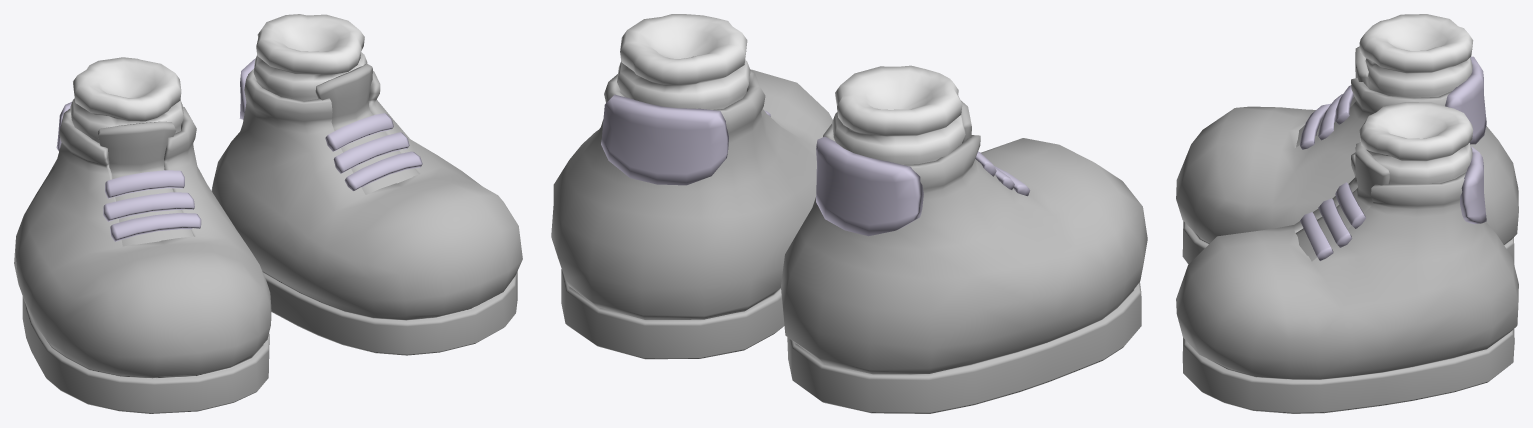
Rendered from cartoon_shoes_v01.fbx.
The picture shows the model from 3 angles, left to right: view 1: azimuth 30°, elevation 25°; view 2: azimuth 150°, elevation 25°; view 3: azimuth 270°, elevation 25°; orthographic projection. The views are drawn at different scales.
Parts seen in each view (by area): view 1: l_shoe_geo, r_shoe_geo, l_socks_geo, r_socks_geo; view 2: r_shoe_geo, l_shoe_geo, r_socks_geo, l_socks_geo; view 3: l_shoe_geo, r_shoe_geo, r_socks_geo, l_socks_geo.
Boxes of the visible parts, x1,y1,x2,y2 form: l_shoe_geo: [211, 58, 522, 355]; r_shoe_geo: [14, 102, 271, 413]; l_socks_geo: [253, 14, 367, 100]; r_socks_geo: [70, 57, 183, 143]; r_shoe_geo: [781, 100, 1147, 413]; l_shoe_geo: [551, 69, 832, 359]; r_socks_geo: [832, 65, 965, 164]; l_socks_geo: [617, 14, 750, 109]; l_shoe_geo: [1176, 142, 1518, 413]; r_shoe_geo: [1176, 46, 1518, 265]; r_socks_geo: [1359, 14, 1473, 97]; l_socks_geo: [1359, 102, 1473, 184].
Size of the model in its own units: 10.91 by 5.52 by 7.44.
